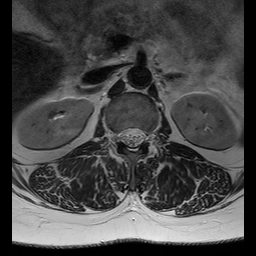CCS_normal: (128, 119, 136, 157)
LFS_normal: (145, 123, 153, 150)
LLS_normal: (136, 119, 146, 153)
RFS_normal: (111, 122, 120, 150)
RLS_normal: (119, 119, 128, 153)
